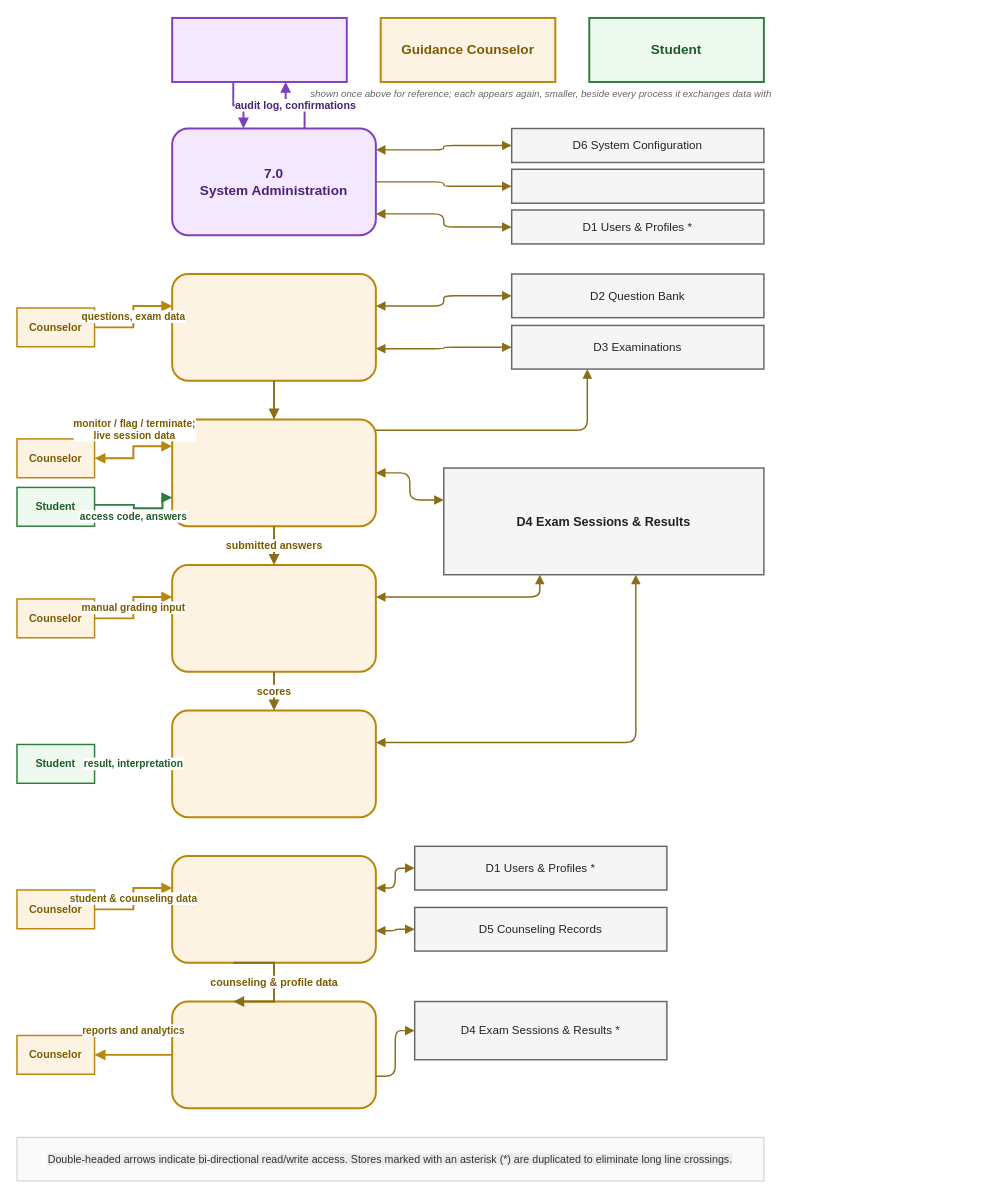
Image size: 994x1198. Some labels were removed from this diagram. Each missing label, with the box of its shape:
1.0 Examination Authoring: (171, 273, 376, 381)
2.0 Examination Administration: (171, 418, 376, 527)
3.0 Automatic and Manual Scoring: (171, 564, 376, 672)
4.0 Result Generation: (171, 709, 376, 818)
5.0 Student Profile & Counseling Management: (171, 855, 376, 963)
6.0 Reporting and Analytics: (171, 1000, 376, 1109)
D7 Audit Log: (511, 168, 764, 204)
Super Administrator: (171, 16, 347, 82)
